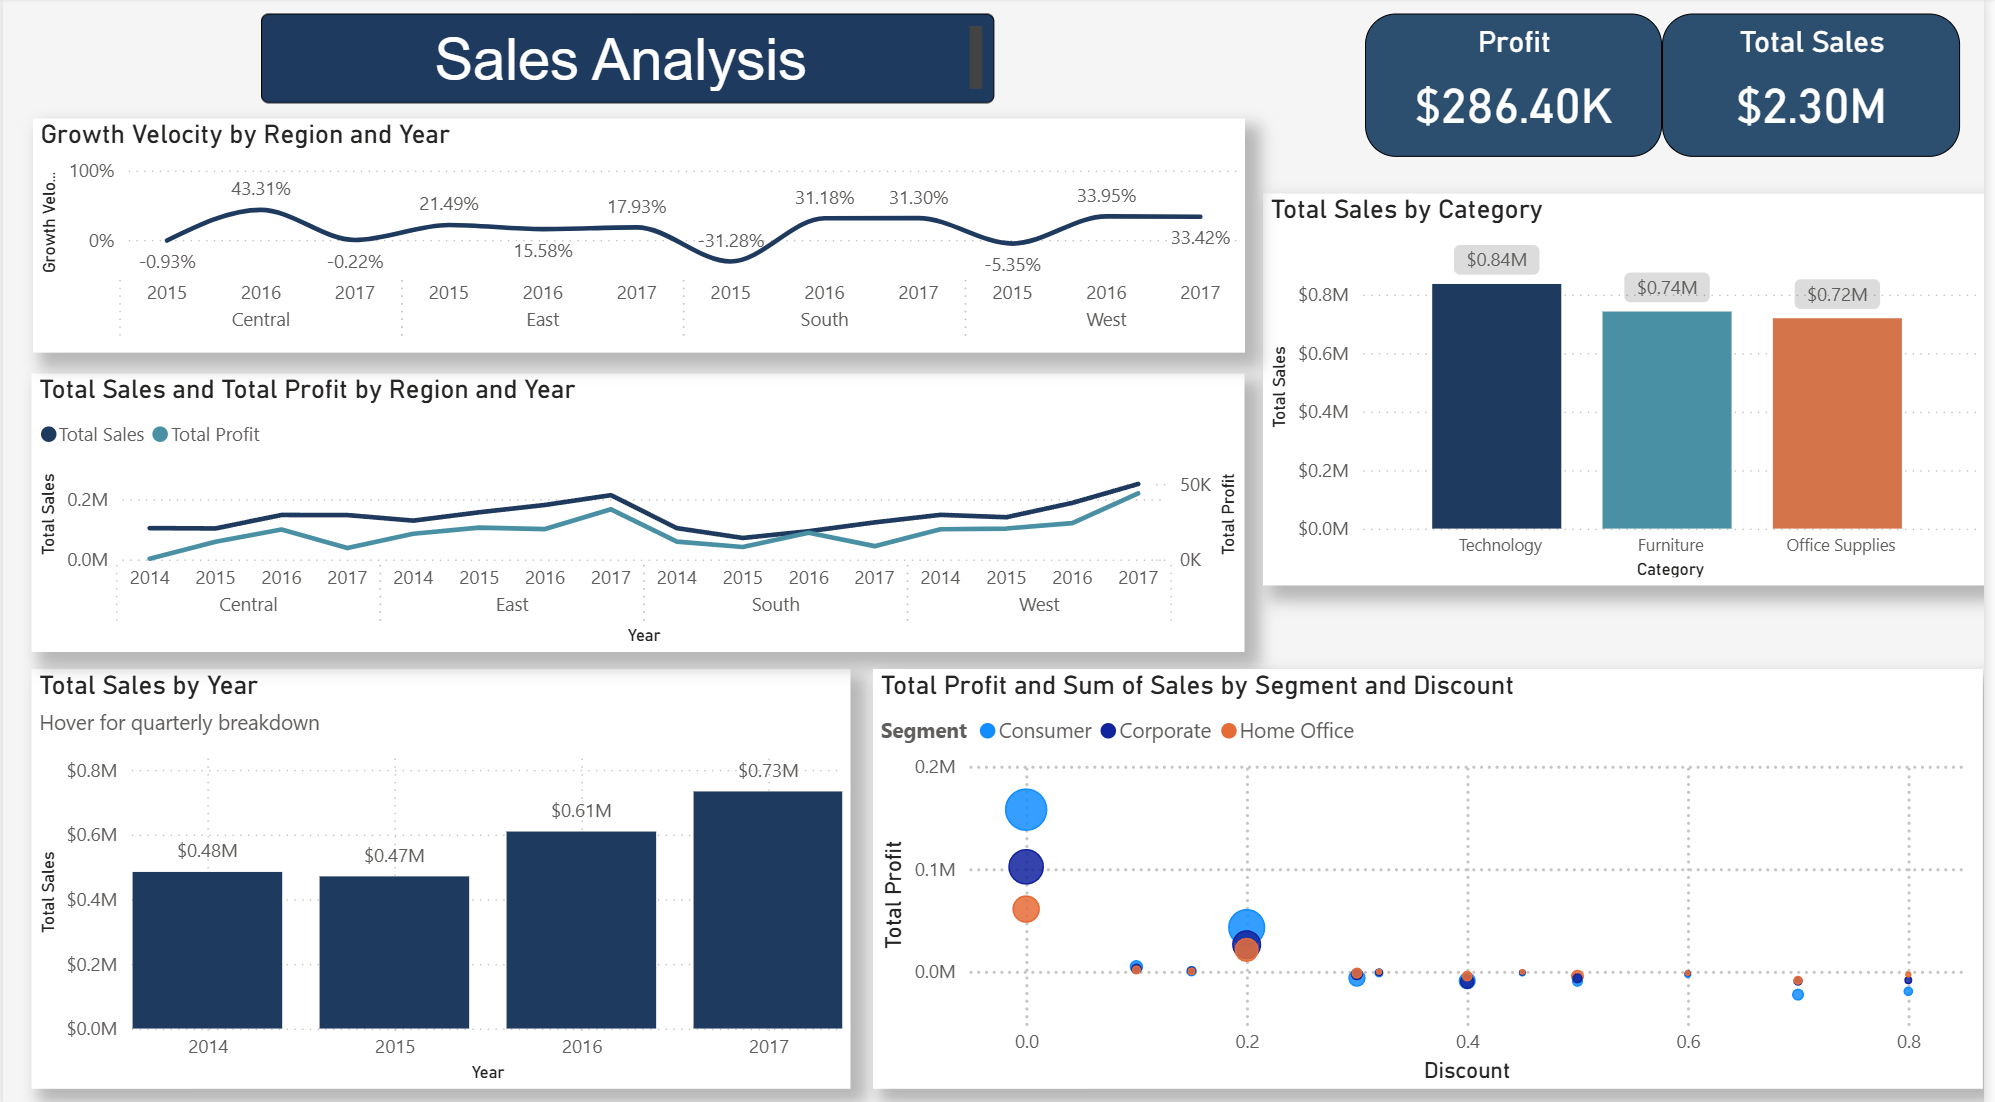

The dashboard page shown, as its layout file describes it:
{"tool":"powerbi","page":{"name":"Sales Performance","canvas":[1280,720],"ordinal":0},"visuals":[{"type":"clusteredColumnChart","title":"Total Sales by Year","fields":{"Category":["Calendar Table.Year"],"Y":["Calendar Table.Sum of Sales"]},"box":[18.7,434.6,529.2,271.4],"z":0},{"type":"card","title":"Total Sales","fields":{"Values":["Calendar Table.Sum of Sales"]},"box":[1072.4,11.1,192.8,93],"z":1000},{"type":"card","title":"Profit","fields":{"Values":["Calendar Table.Sum of Profit"]},"box":[880.4,10.8,191.8,92.4],"z":3000},{"type":"textbox","box":[166.4,10.4,474.1,58.2],"z":4000},{"type":"lineChart","fields":{"Category":["Retails Order Full Dataset.Region","Calendar Table.Year"],"Y":["Sum(Retails Order Full Dataset.Sales)","select"],"Y2":["Sum(Retails Order Full Dataset.Profit)"]},"box":[18.7,243.3,784,179.9],"z":5000},{"type":"scatterChart","fields":{"Size":["Sum(Retails Order Full Dataset.Sales)"],"X":["Retails Order Full Dataset.Discount"],"Series":["Retails Order Full Dataset.Segment"],"Y":["Sum(Retails Order Full Dataset.Profit)"]},"box":[562.5,434.6,717.4,271.4],"z":6000},{"type":"clusteredColumnChart","fields":{"Category":["Retails Order Full Dataset.Category"],"Y":["Calendar Table.Sum of Sales"]},"box":[814.2,126.6,466.3,253.3],"z":7000},{"type":"lineChart","fields":{"Category":["Retails Order Full Dataset.Region","Calendar Table.Year"],"Y":["select","Calendar Table.Sales Growth Velocity"]},"box":[18.9,78.1,783.4,151.5],"z":8001}]}

Visuals, with their boxes in screenshot pixels (x1, y1, x2, y2), scaled from the page's 1280x720 canvas onto the 1995x1102 screenshot:
"Total Sales by Year" clusteredColumnChart: <box>29,665,854,1081</box>
"Total Sales" card: <box>1671,17,1972,159</box>
"Profit" card: <box>1372,17,1671,158</box>
textbox: <box>259,16,998,105</box>
lineChart - Retails Order Full Dataset.Region x Calendar Table.Year: <box>29,372,1251,648</box>
scatterChart - Sum(Retails Order Full Dataset.Sales) x Retails Order Full Dataset.Discount: <box>877,665,1994,1081</box>
clusteredColumnChart - Retails Order Full Dataset.Category x Calendar Table.Sum of Sales: <box>1269,194,1994,581</box>
lineChart - Retails Order Full Dataset.Region x Calendar Table.Year: <box>29,120,1250,351</box>
